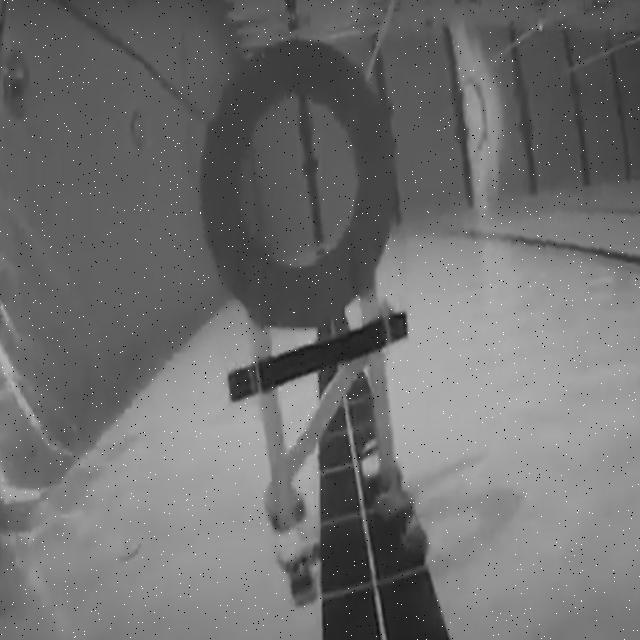Circle: (197, 41, 400, 324)
